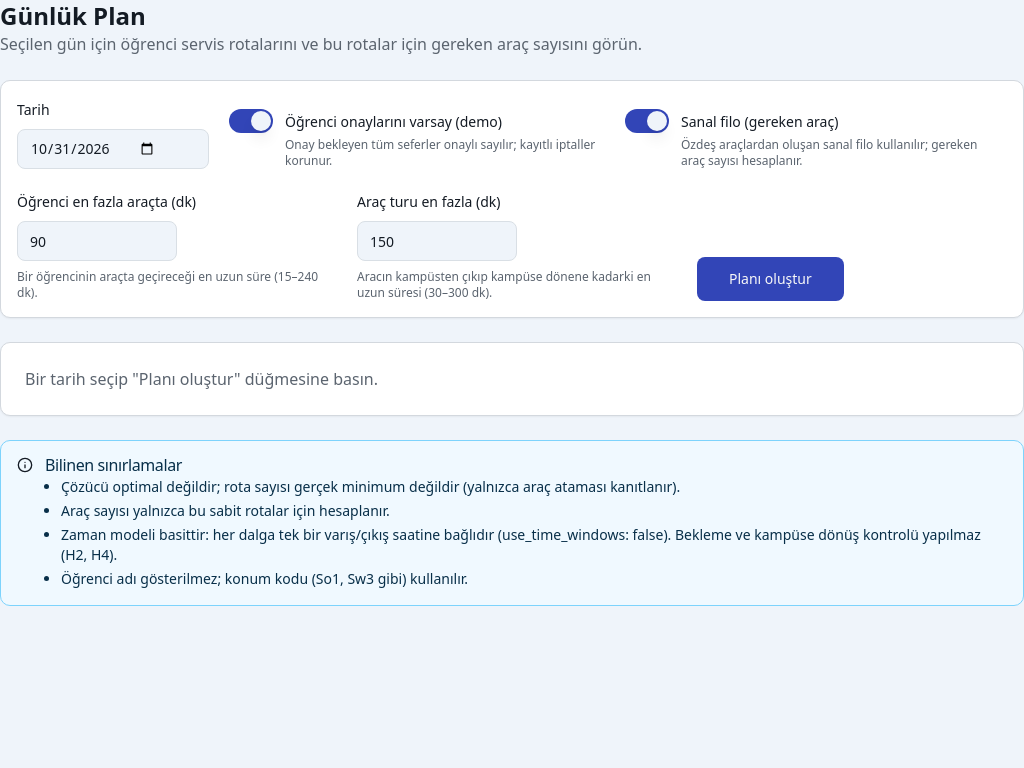
Test: DailyPlanPage › states a proven shortage when the wave's capacity floor exceeds the live fleet
Type "2026-10-05" into the date field labelled "Tarih". click: (113, 149)
box: [17,129,209,169]
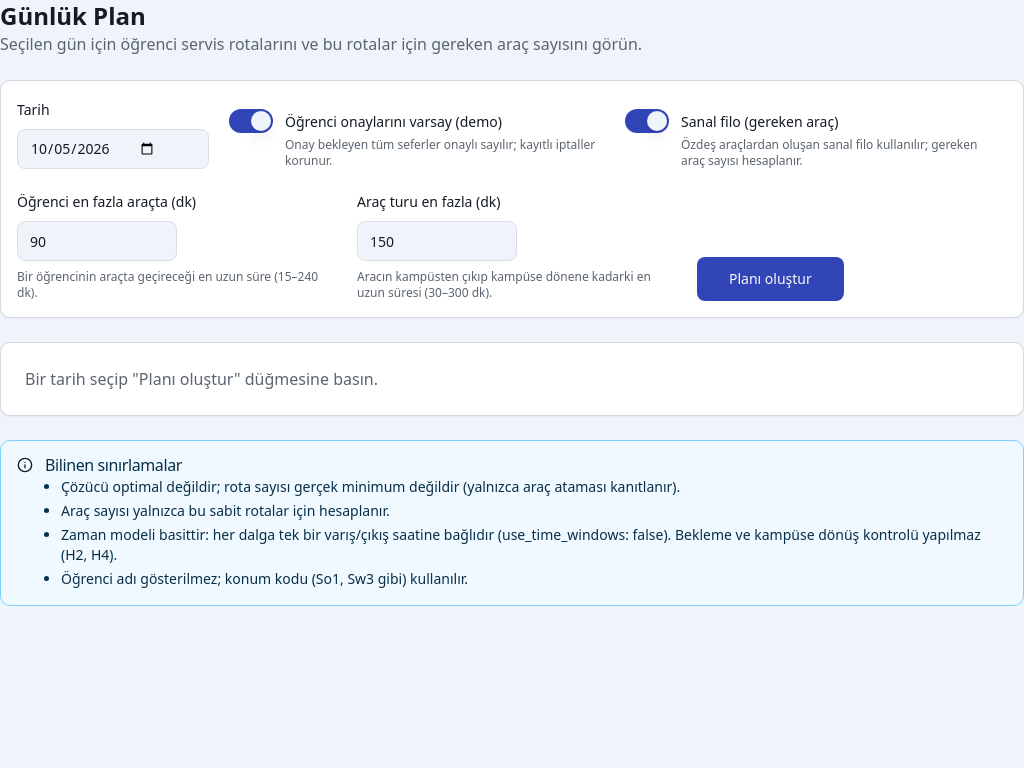
Click the button "Planı oluştur". click: click(770, 279)
box: [697,257,844,301]
(page scrolled)
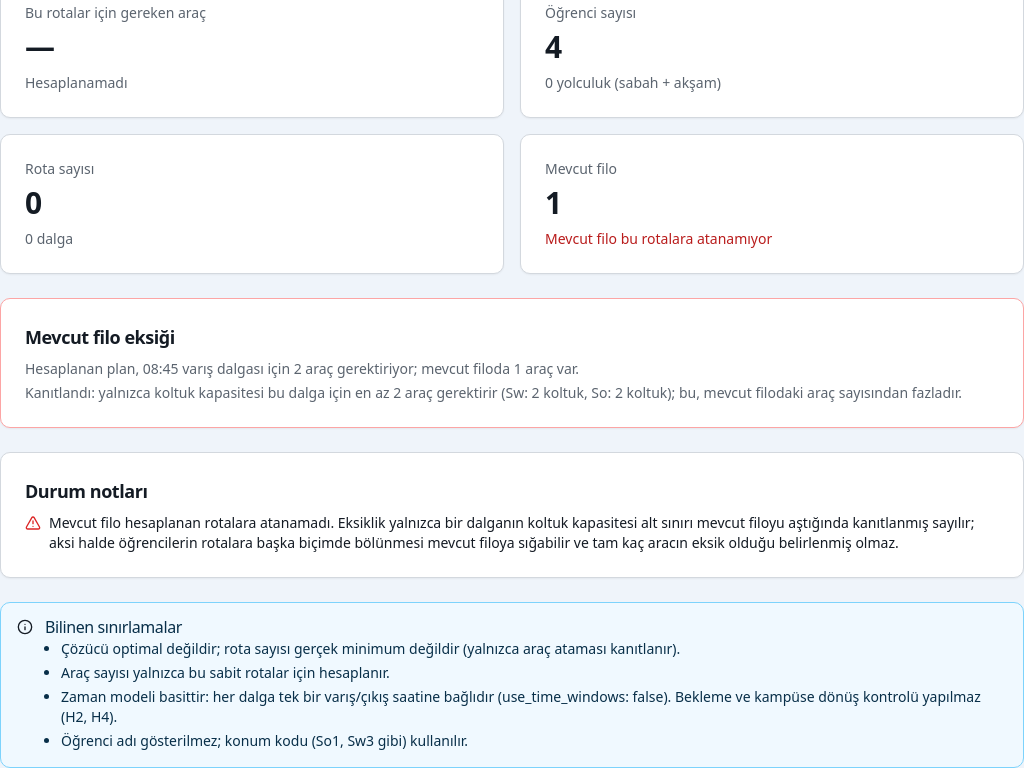
Now the text with test id "fleet-shortage-needs" shows "Hesaplanan plan, 08:45 varış dalgası için 2 araç gerektiriyor; mevcut filoda 1 araç var.", box [25,358,579,378]
Now the text with test id "fleet-shortage-verdict" shows "Kanıtlandı", box [25,382,962,402]
Now the text with test id "fleet-shortage-verdict" shows "en az 2 araç", box [25,382,962,402]
